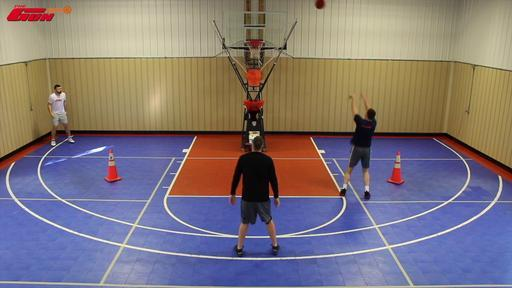ball: (314, 0, 326, 9)
human: (230, 137, 280, 256), (340, 94, 376, 201), (47, 84, 76, 146)
rim: (244, 40, 266, 58)
